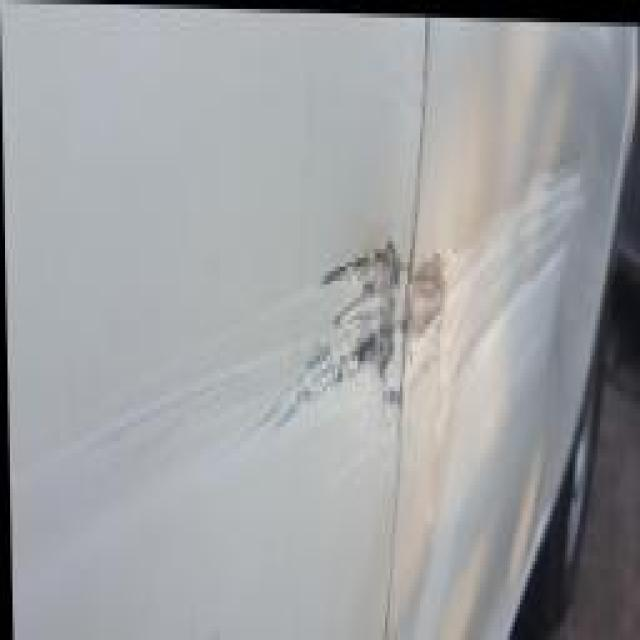Door: (12, 209, 406, 576), (405, 142, 605, 446)
